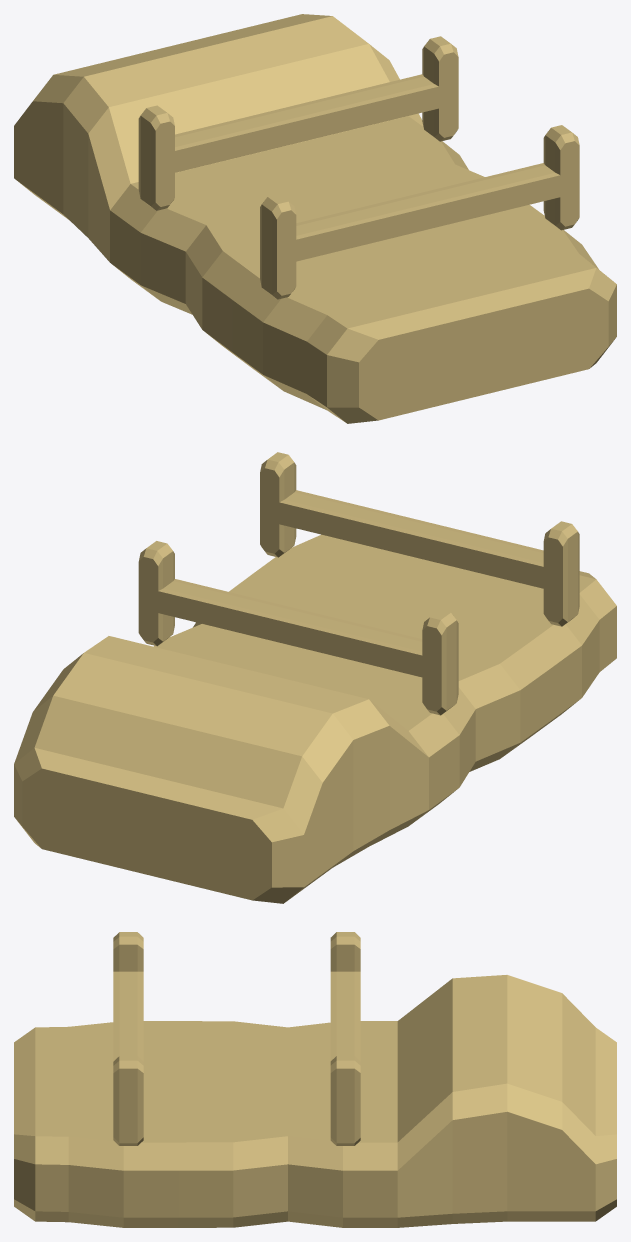
Rendered from tallow_medium_c.glb.
3 views of the same model, one above another, from view 1: azimuth 30°, elevation 25°; view 2: azimuth 150°, elevation 25°; view 3: azimuth 270°, elevation 25° (orthographic). The views are drawn at different scales.
Visible parts, largest first — view 1: tallow_medium_c; view 2: tallow_medium_c; view 3: tallow_medium_c.
Part boxes in pixels (bbox=[...]): tallow_medium_c: bbox=[14, 14, 616, 423]; tallow_medium_c: bbox=[14, 452, 616, 903]; tallow_medium_c: bbox=[14, 932, 616, 1227].
Bounding box in the file's own units: 3.5 × 2 × 6.4.
